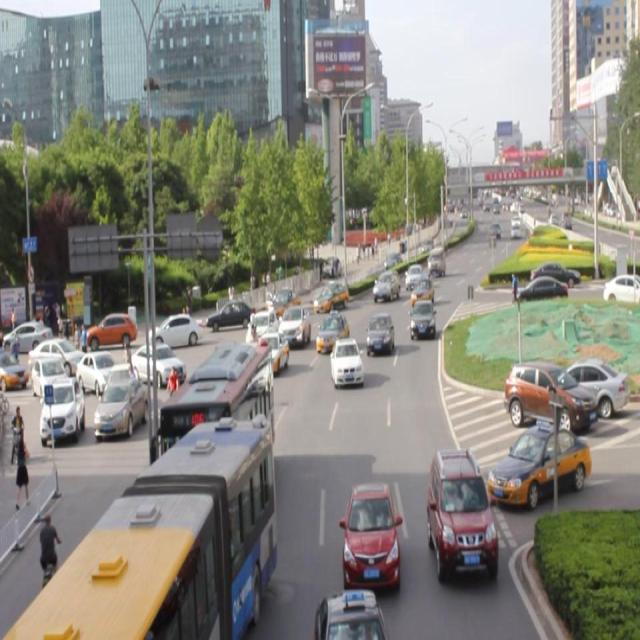car: (429, 447, 496, 576), (488, 422, 589, 501), (343, 477, 401, 587), (314, 586, 385, 640), (211, 345, 245, 395), (205, 300, 258, 332), (248, 334, 288, 376), (330, 337, 363, 385), (279, 304, 312, 350), (316, 310, 350, 354), (246, 309, 277, 350), (313, 281, 350, 313), (366, 313, 393, 353), (410, 297, 434, 339), (409, 276, 434, 308), (372, 270, 398, 299), (404, 261, 424, 290)
van: (9, 417, 277, 640), (163, 345, 274, 482)
